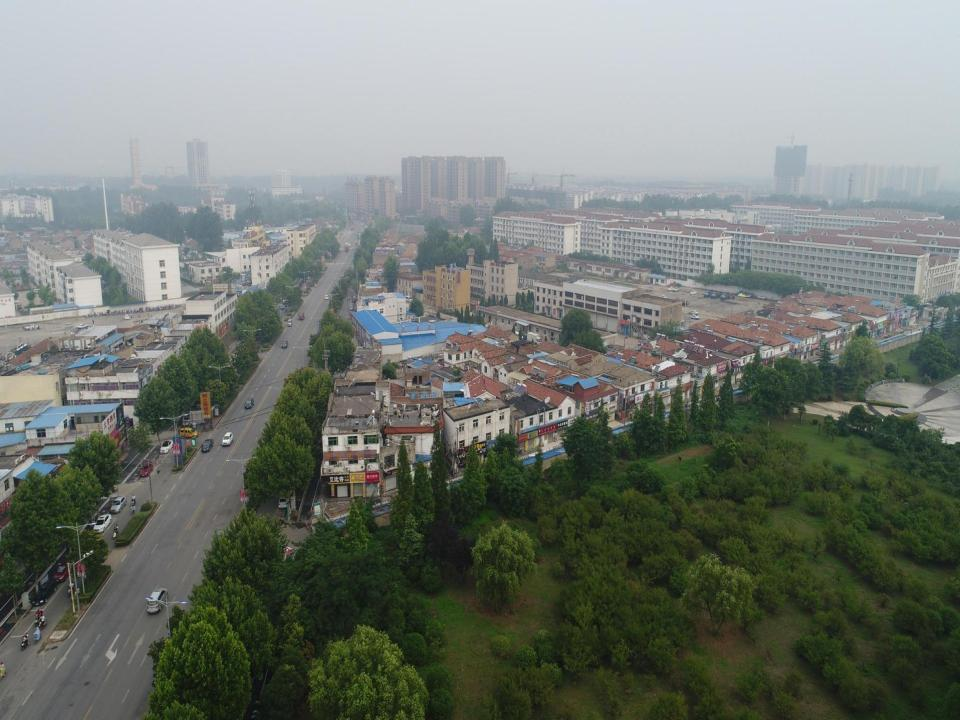car: (31, 580, 57, 606), (146, 588, 168, 614), (52, 560, 74, 582), (92, 513, 112, 534), (110, 496, 127, 514), (139, 460, 153, 478), (159, 439, 174, 454), (200, 438, 214, 454), (222, 432, 233, 445), (244, 398, 255, 409), (278, 494, 286, 509), (182, 414, 191, 426), (195, 396, 203, 409), (76, 323, 89, 330), (281, 339, 288, 349), (689, 315, 700, 320), (672, 281, 681, 287), (757, 295, 767, 300), (689, 290, 697, 295), (688, 311, 698, 315), (657, 294, 667, 298), (667, 286, 674, 291), (124, 315, 130, 320), (324, 294, 329, 300), (349, 304, 354, 310), (673, 287, 679, 292), (351, 298, 356, 303), (352, 296, 356, 299), (348, 243, 351, 246), (341, 231, 343, 235)
truck: (527, 332, 541, 345), (279, 299, 288, 310), (720, 293, 732, 301), (703, 291, 718, 297), (710, 292, 723, 298), (298, 310, 304, 320), (344, 242, 349, 252)
van: (178, 427, 198, 439), (403, 296, 412, 302), (287, 318, 293, 326), (522, 284, 528, 290)
